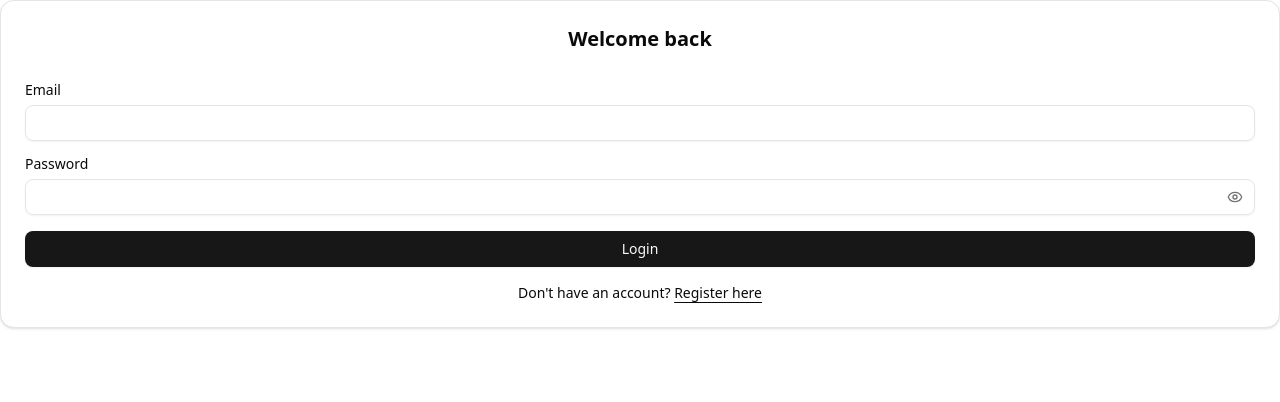
Scenario: LoginForm › validates required fields
Note: Try to submit without filling any fields
Click the button "Login": [640, 249] box [25,231,1255,267]
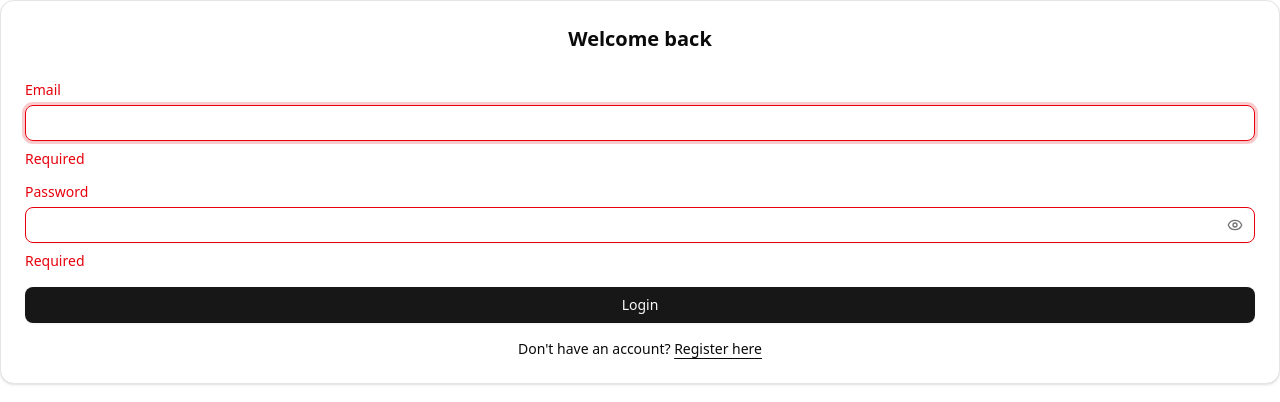
Check: the text "Required" is shown 2 times, box [25,149,84,168]; [25,251,84,270]
